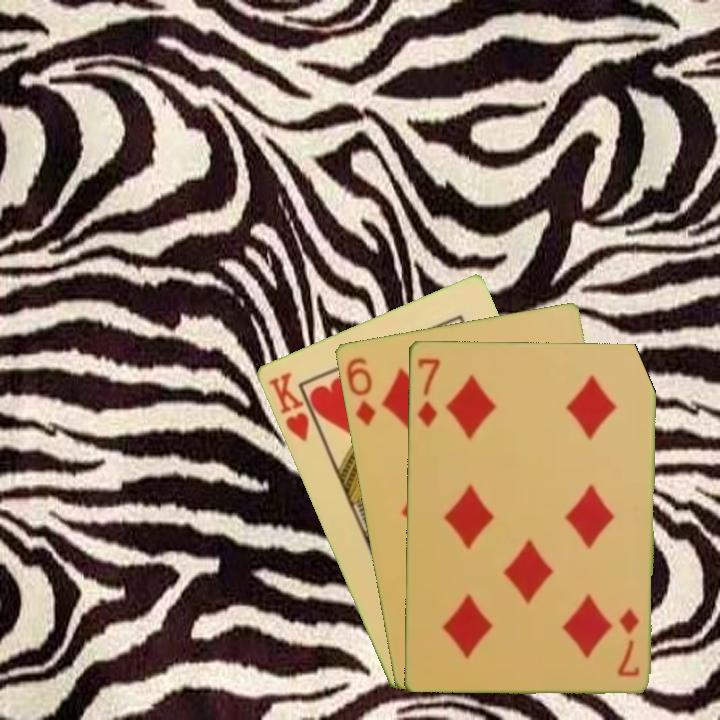6d: (342, 353, 378, 428)
7d: (413, 354, 442, 429), (614, 604, 642, 679)
Kh: (264, 368, 324, 445)
